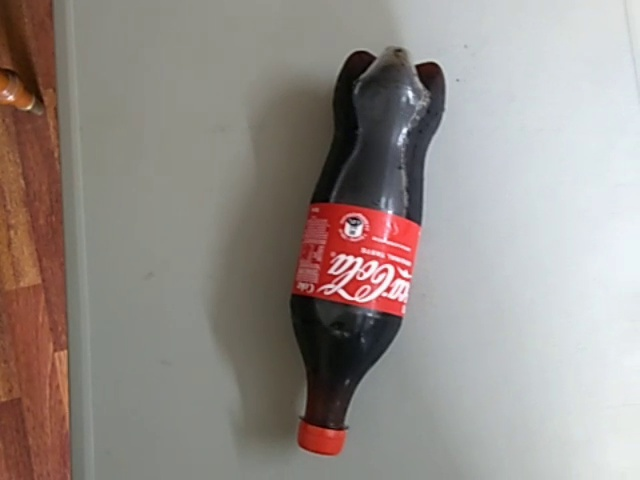Cocacola: (270, 41, 453, 465)
